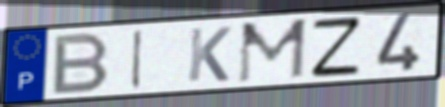4: (373, 10, 424, 74)
B: (49, 30, 113, 97)
I: (128, 27, 146, 91)
K: (185, 25, 234, 83)
M: (234, 16, 310, 86)
Z: (309, 14, 364, 79)
